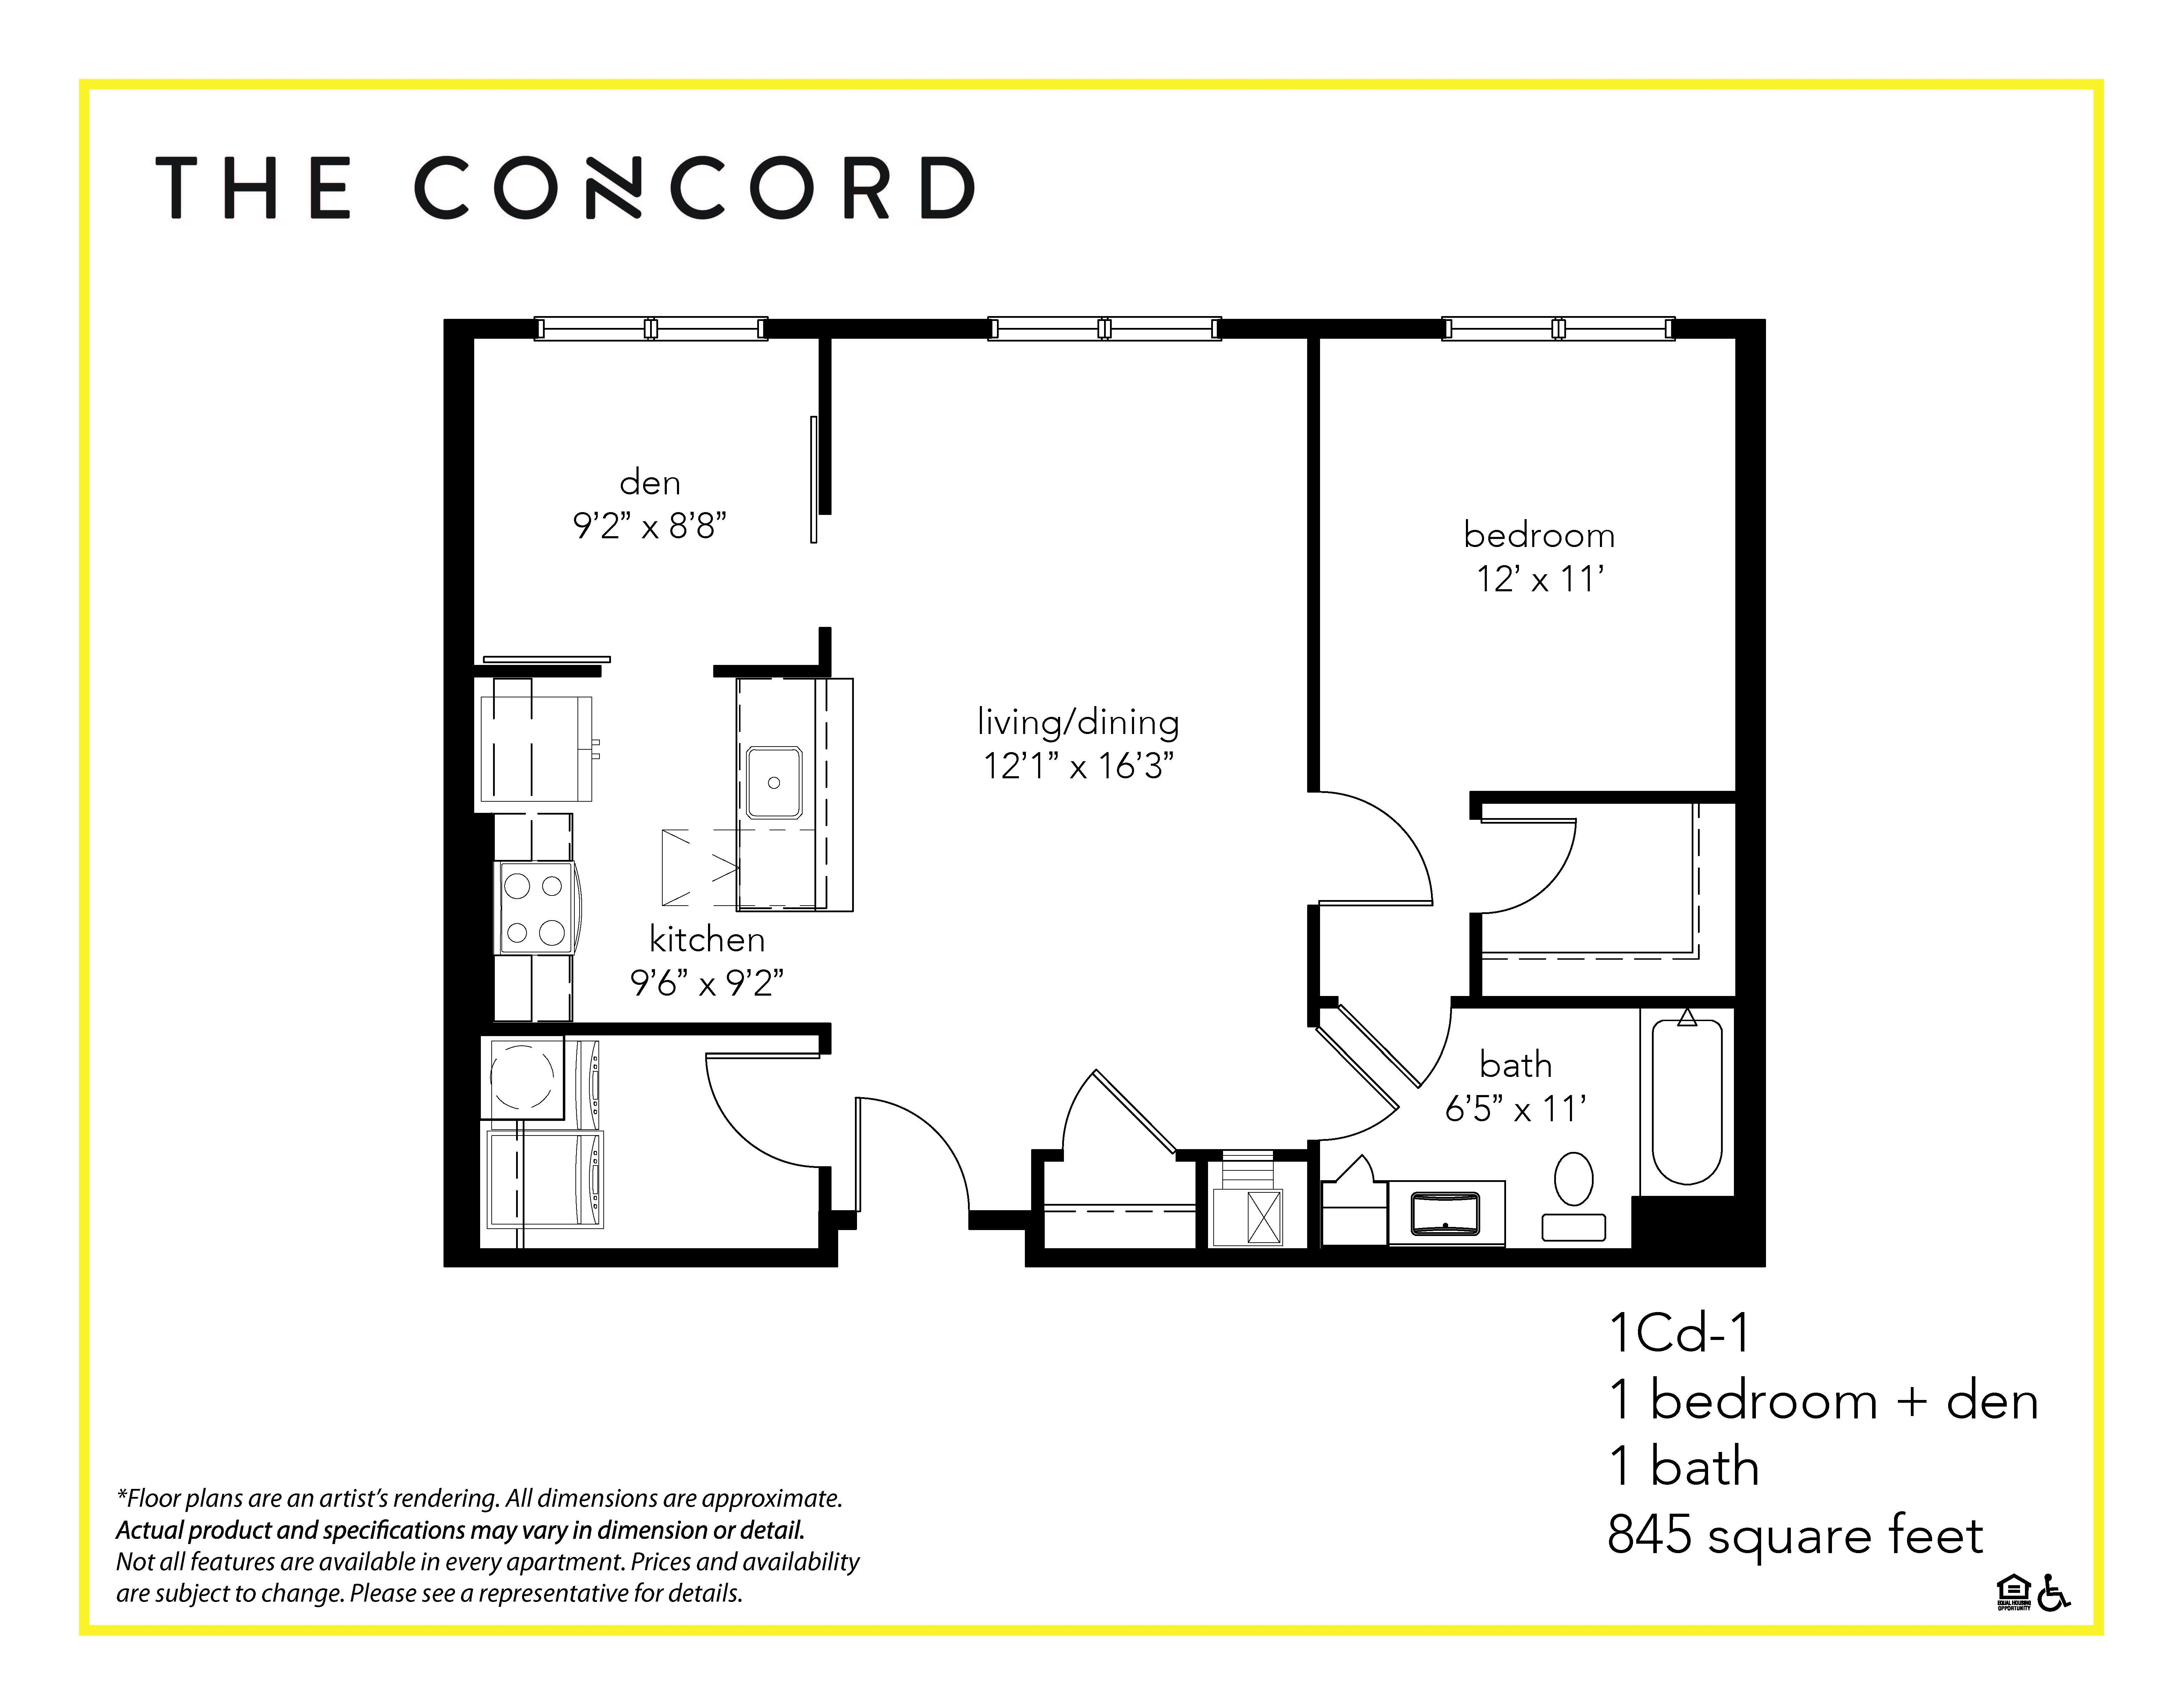room: (824, 321, 1324, 1162), (1309, 319, 1767, 806), (443, 321, 840, 682), (448, 657, 827, 1033), (1313, 994, 1767, 1260), (1309, 796, 1768, 999), (450, 1044, 833, 1272)
